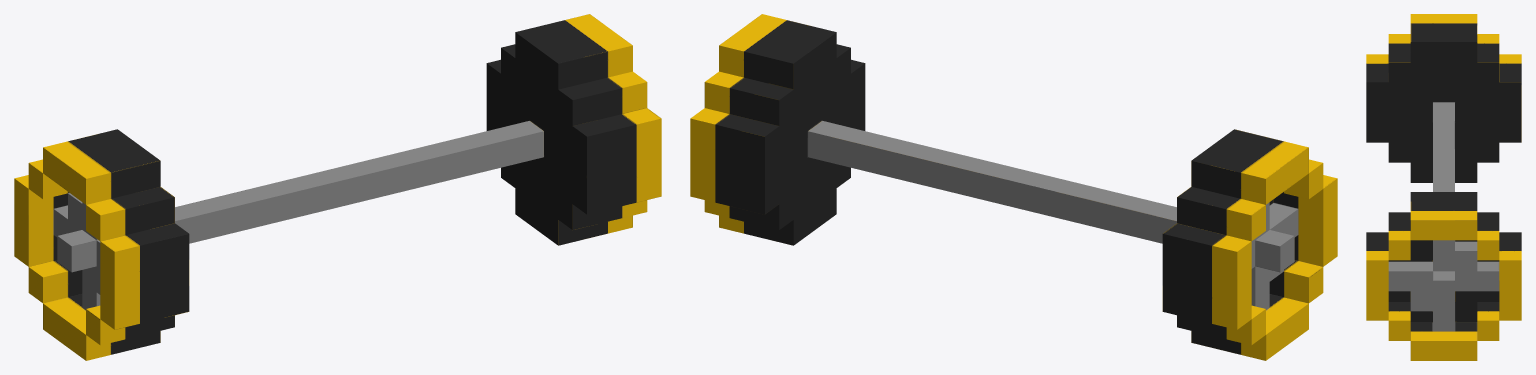
Rendered from Tractor_1_Rim_1.obj.
3 renders of one model, left to right at view 1: azimuth 30°, elevation 25°; view 2: azimuth 150°, elevation 25°; view 3: azimuth 270°, elevation 25°, orthographic. The views are drawn at different scales.
Parts seen in each view (by area): view 1: Tractor_1_Rim_1_Tractor_1_Rim_1.001; view 2: Tractor_1_Rim_1_Tractor_1_Rim_1.001; view 3: Tractor_1_Rim_1_Tractor_1_Rim_1.001.
Part boxes in pixels (x1=…): Tractor_1_Rim_1_Tractor_1_Rim_1.001: x1=14, y1=14, x2=661, y2=360; Tractor_1_Rim_1_Tractor_1_Rim_1.001: x1=690, y1=14, x2=1337, y2=360; Tractor_1_Rim_1_Tractor_1_Rim_1.001: x1=1366, y1=14, x2=1521, y2=360.
Size of the model in its own units: 2.2 by 0.7 by 0.7.
